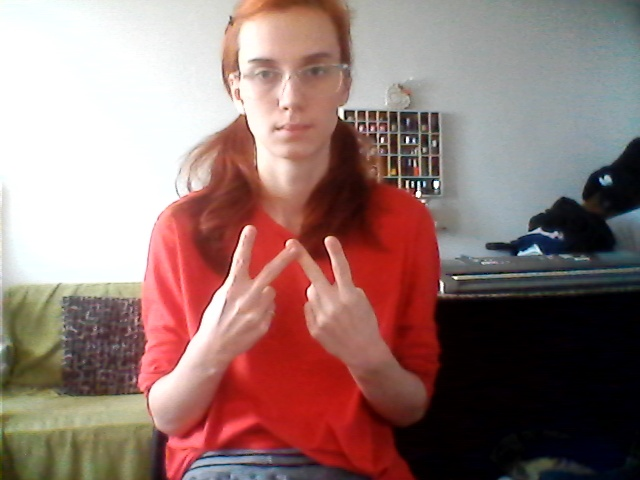w: (198, 221, 394, 358)
